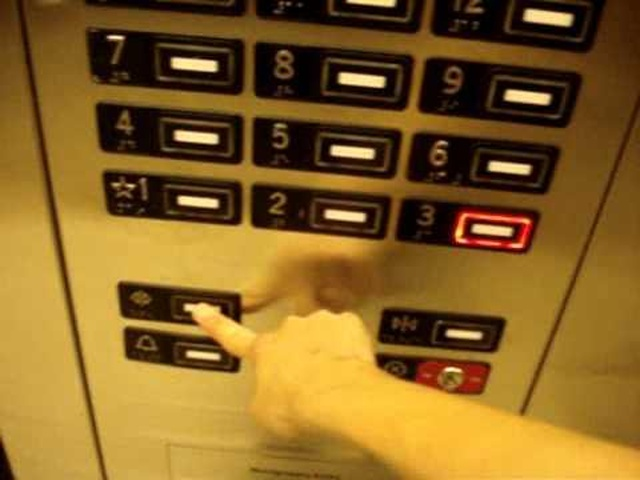2: (247, 178, 394, 249)
3: (393, 193, 543, 258)
4: (91, 99, 246, 168)
5: (249, 113, 403, 184)
6: (403, 128, 566, 196)
7: (84, 24, 245, 100)
8: (250, 35, 416, 116)
9: (415, 52, 586, 131)
alarm: (120, 324, 243, 375)
close: (377, 304, 509, 357)
open: (111, 279, 243, 328)
s1: (100, 166, 244, 230)
stop: (372, 350, 492, 399)
